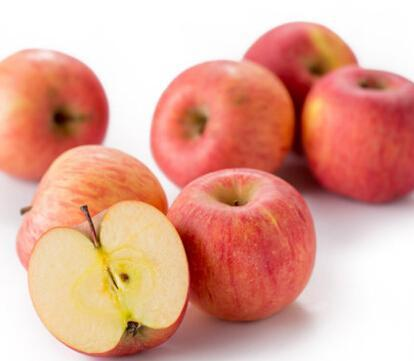apple: (163, 170, 314, 321), (150, 57, 295, 193), (11, 146, 164, 263), (300, 68, 413, 204), (1, 46, 112, 184), (241, 19, 357, 107)
